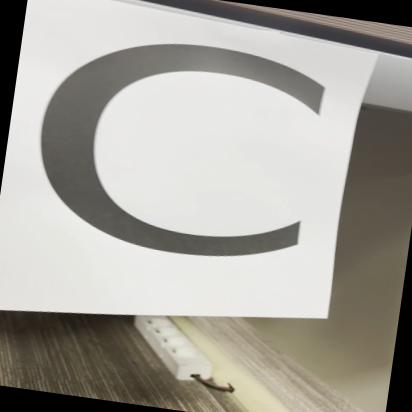seat: (0, 0, 361, 322)
